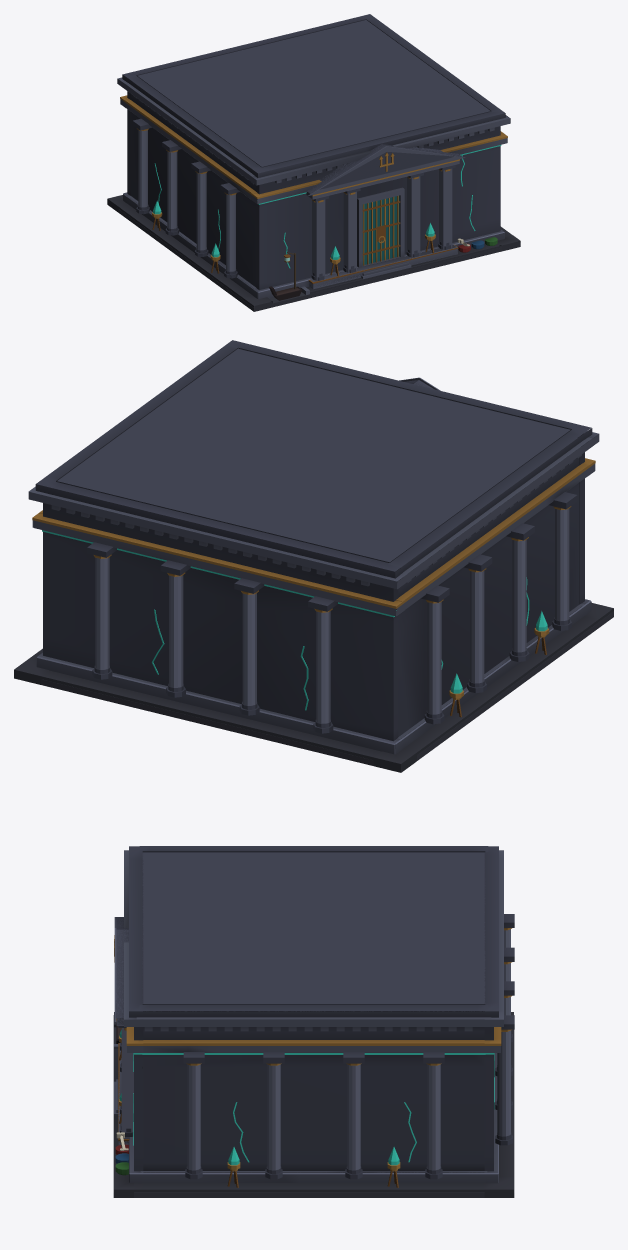
The model's file is ThreeHeadedRatFloor.fbx.
3 renders of one model, top to bottom at view 1: azimuth 30°, elevation 25°; view 2: azimuth 150°, elevation 25°; view 3: azimuth 270°, elevation 25°, orthographic. The views are drawn at different scales.
Parts seen in each view (by area): view 1: UW_S_All, UW_F_Rings, UW_F_Smooth, UW_F_Quiet, UW_F_Glass, UW_F_Props; view 2: UW_F_Rings, UW_S_All, UW_F_Smooth, UW_F_Quiet, UW_F_Props, UW_F_Glass; view 3: UW_S_All, UW_F_Rings, UW_F_Smooth, UW_F_Quiet, UW_F_Props, UW_F_Glass.
Boxes of the visible parts, <box> form: UW_S_All: <box>118,20,520,311</box>; UW_F_Rings: <box>123,14,504,289</box>; UW_F_Smooth: <box>107,74,520,311</box>; UW_F_Quiet: <box>108,77,519,305</box>; UW_F_Glass: <box>153,145,501,268</box>; UW_F_Props: <box>132,118,497,300</box>; UW_F_Rings: <box>36,340,591,741</box>; UW_S_All: <box>41,349,613,772</box>; UW_F_Smooth: <box>14,340,613,772</box>; UW_F_Quiet: <box>14,431,613,763</box>; UW_F_Props: <box>87,492,577,733</box>; UW_F_Glass: <box>42,530,547,710</box>; UW_S_All: <box>113,852,514,1197</box>; UW_F_Rings: <box>115,846,498,1172</box>; UW_F_Smooth: <box>114,850,513,1197</box>; UW_F_Quiet: <box>114,850,513,1189</box>; UW_F_Props: <box>115,914,514,1179</box>; UW_F_Glass: <box>119,1030,494,1165</box>.
Size of the model in its own units: 60 by 20 by 60.
